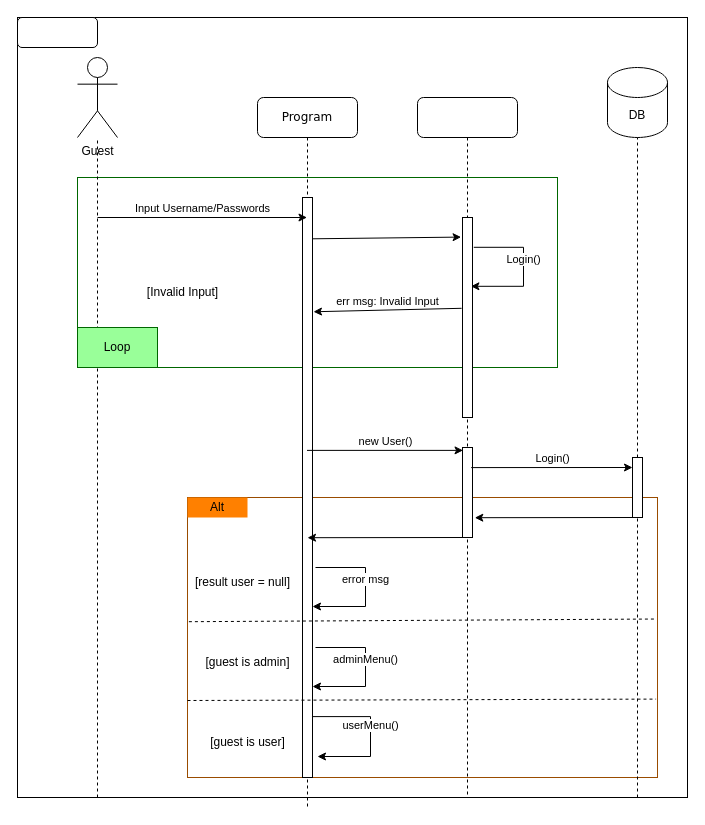
Image size: 705x825. Some labels were removed from this diagram. The shapes that lost their labels are listed below. From the top down, each one's box as (x1, y1, x2, y2) in pixels, then its label:
(16, 16, 98, 48): Sd01-Log In
(416, 96, 518, 798): :User
